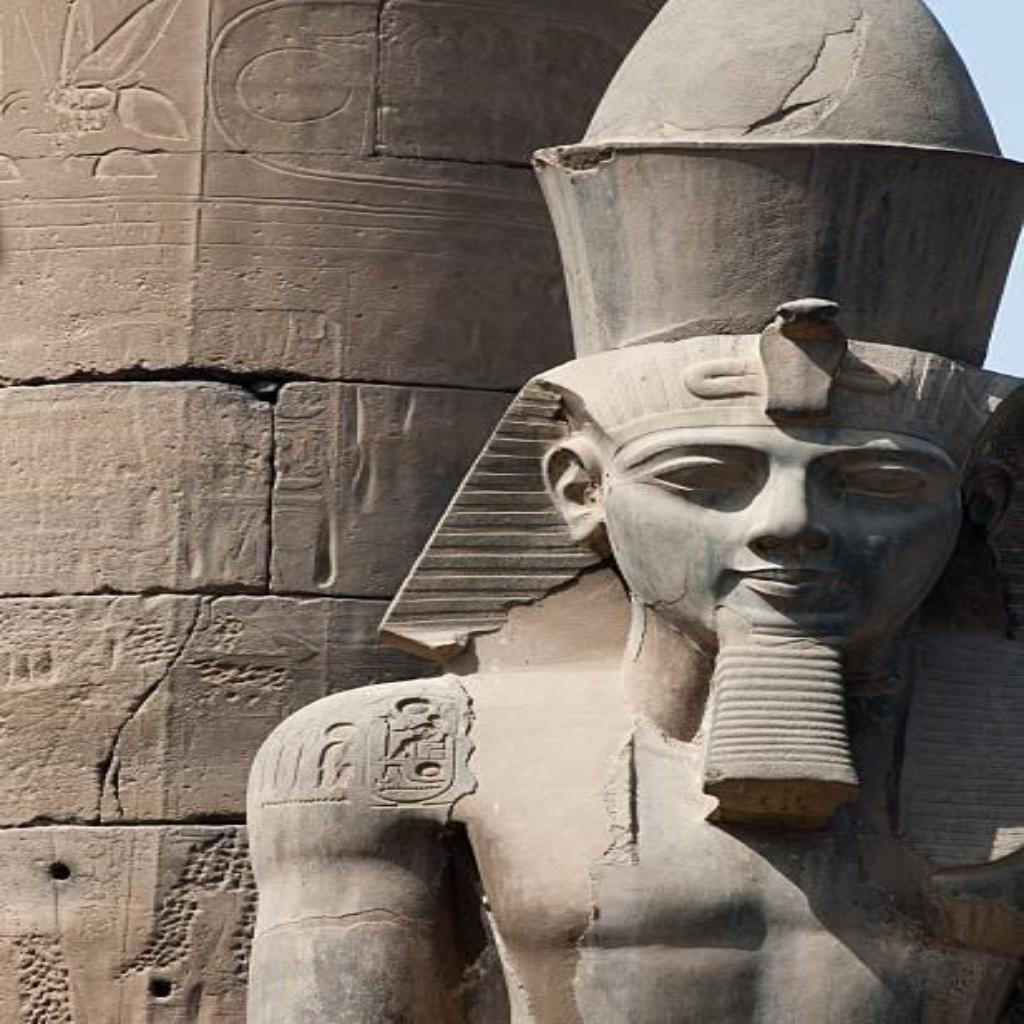Statue of King Ramses II Luxor Temple: (236, 0, 1018, 1021)
